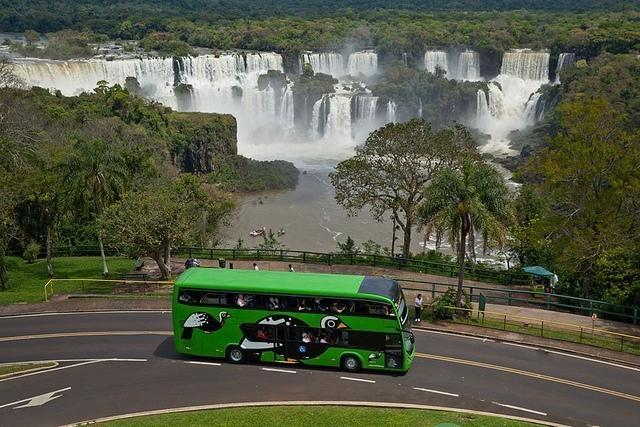bus: (172, 268, 414, 373)
